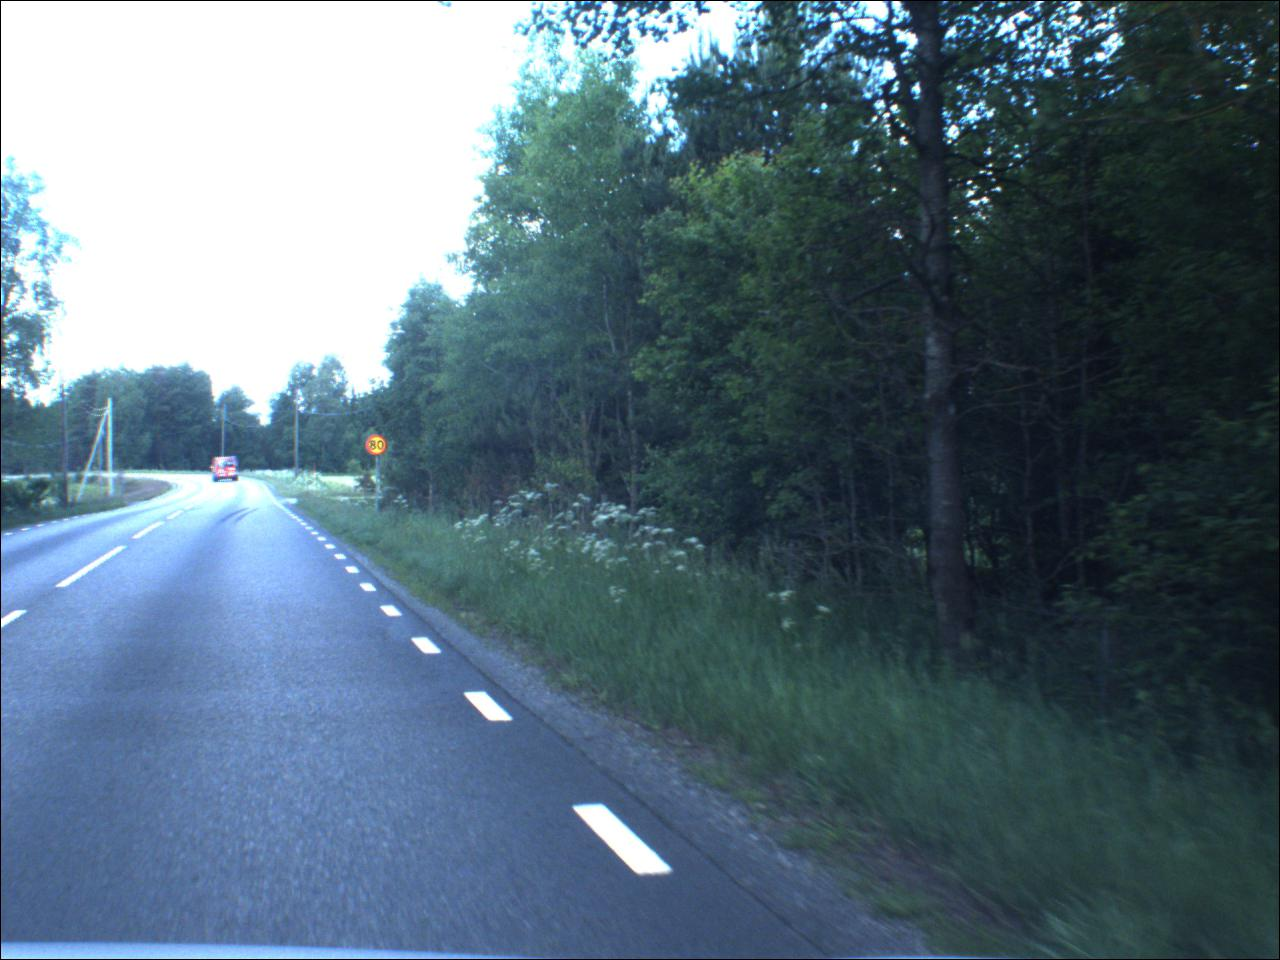80_SIGN: (367, 436, 389, 458)
